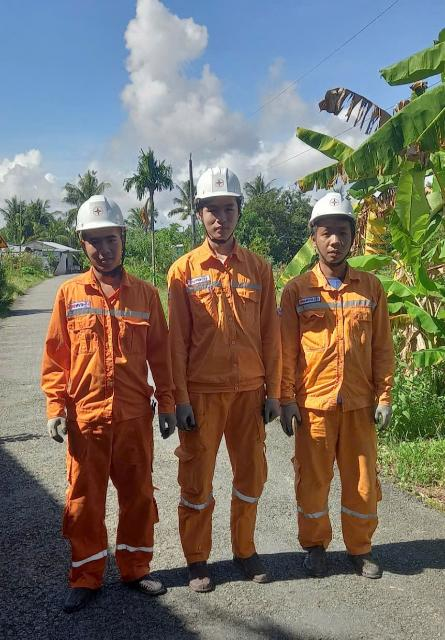gloves: (41, 408, 74, 450), (366, 396, 397, 433), (170, 397, 199, 436), (280, 395, 302, 441), (152, 407, 175, 440), (260, 394, 280, 420)
helmet: (71, 182, 141, 242), (301, 186, 364, 237), (195, 162, 254, 209)
shoes: (180, 555, 223, 604), (296, 536, 336, 584), (347, 544, 389, 586), (231, 541, 267, 586), (59, 581, 98, 618), (124, 571, 169, 598)
